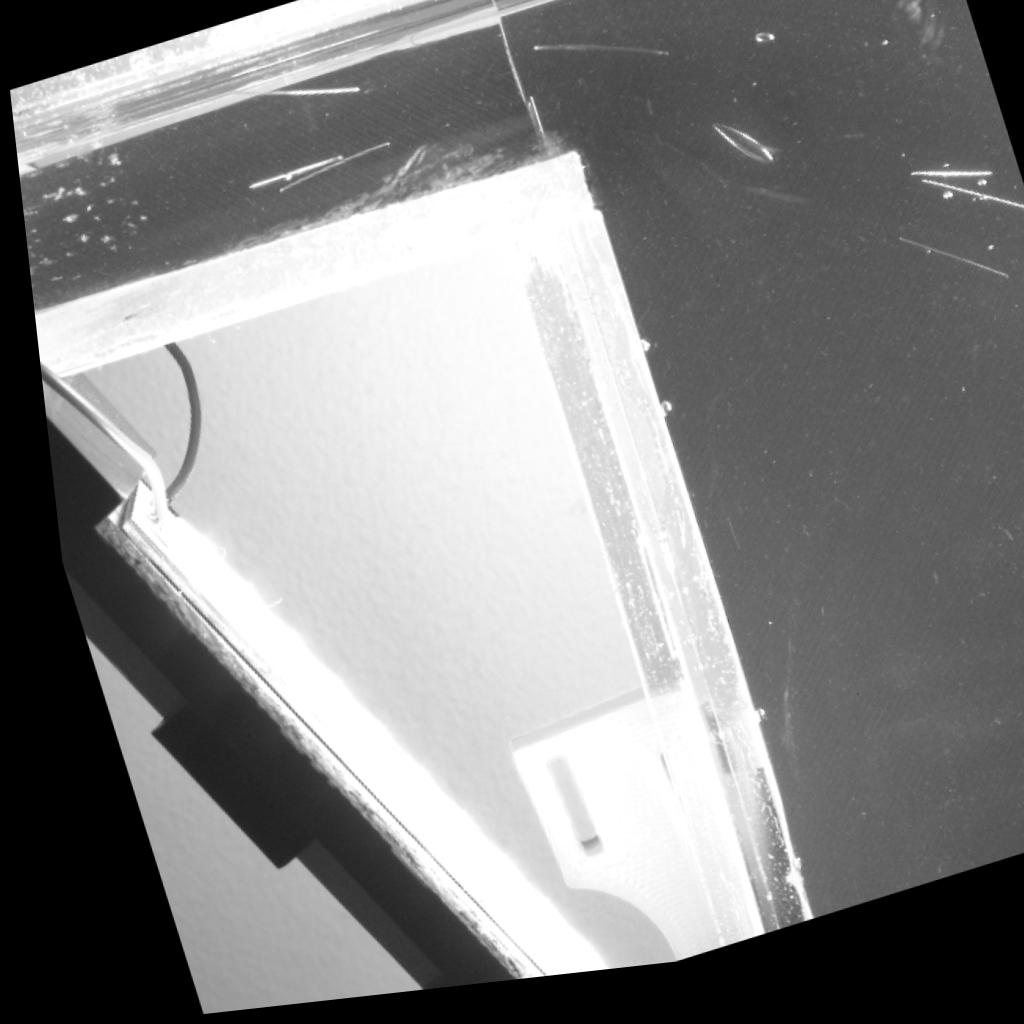Fiber: (270, 147, 392, 203), (889, 253, 1007, 306), (915, 197, 1023, 239), (239, 160, 343, 199), (530, 52, 669, 73), (232, 91, 358, 106), (902, 190, 986, 202)
